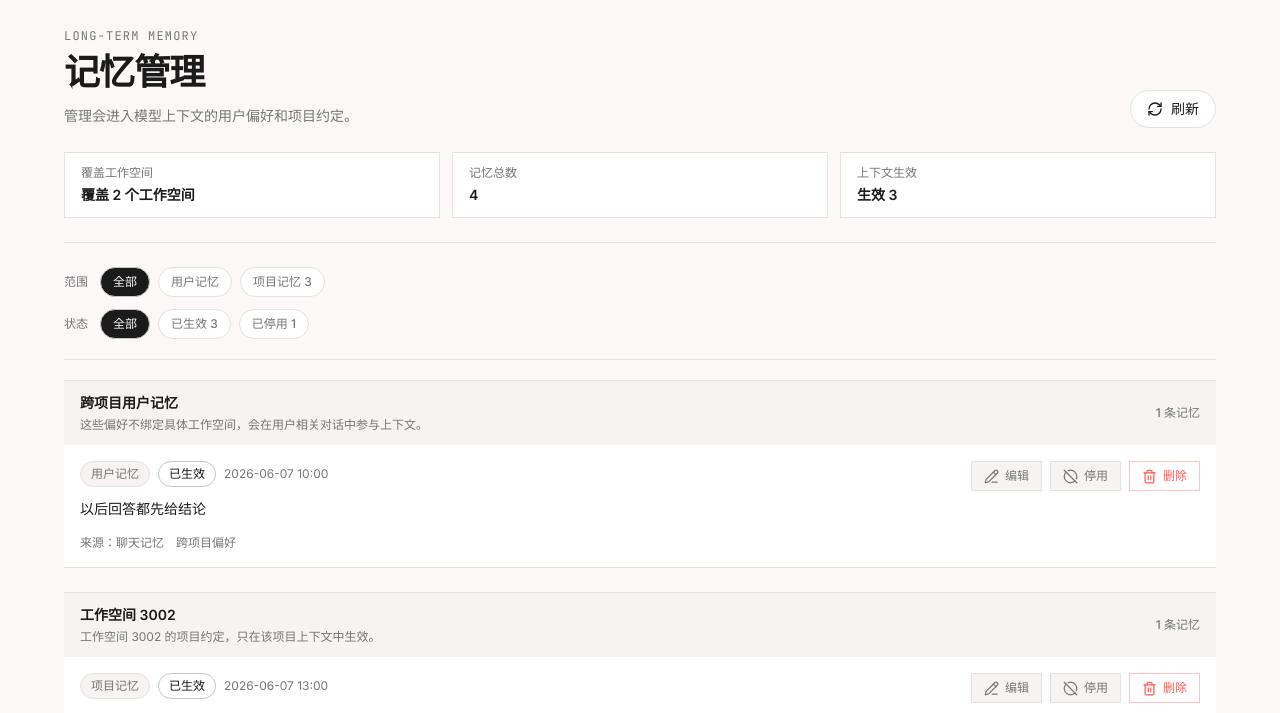
Test: MemoryView › edits memory content with custom dialog
Expected: the text "以后回答都先给结论" is shown, [80,500,206,517]
Click the button with aria-label "编辑记忆 以后回答都先给结论" at (1006, 476), box [971,461,1042,491]
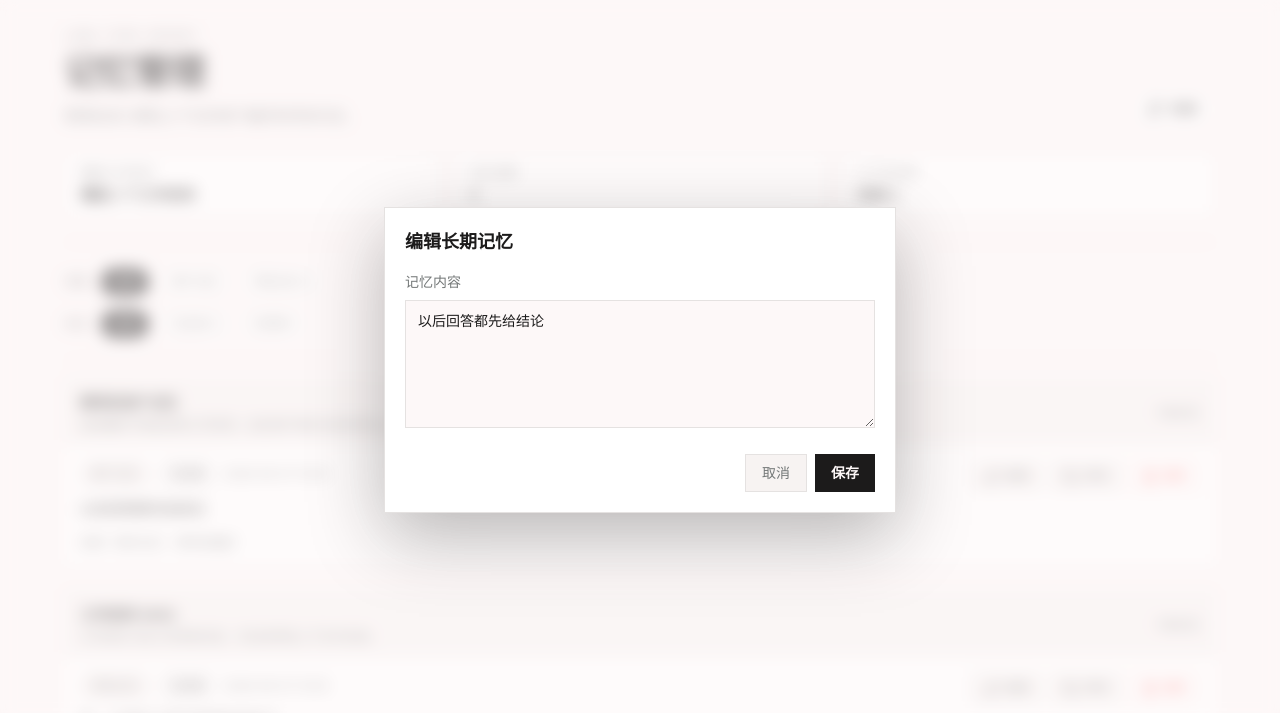
Replace the text in the text box labelled "记忆内容" with "以后回答都先给可执行步骤" at (640, 364), box [405,300,875,428]
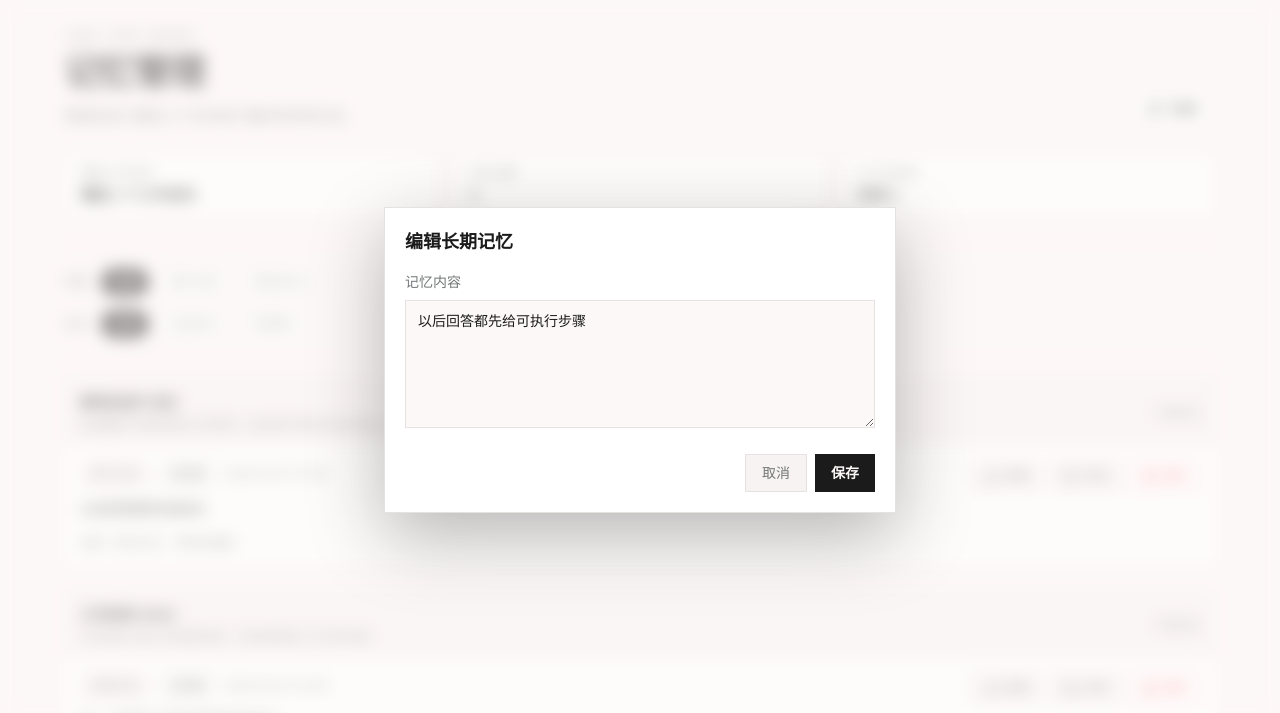
Click the button "保存" at (845, 473), box [815,454,875,492]
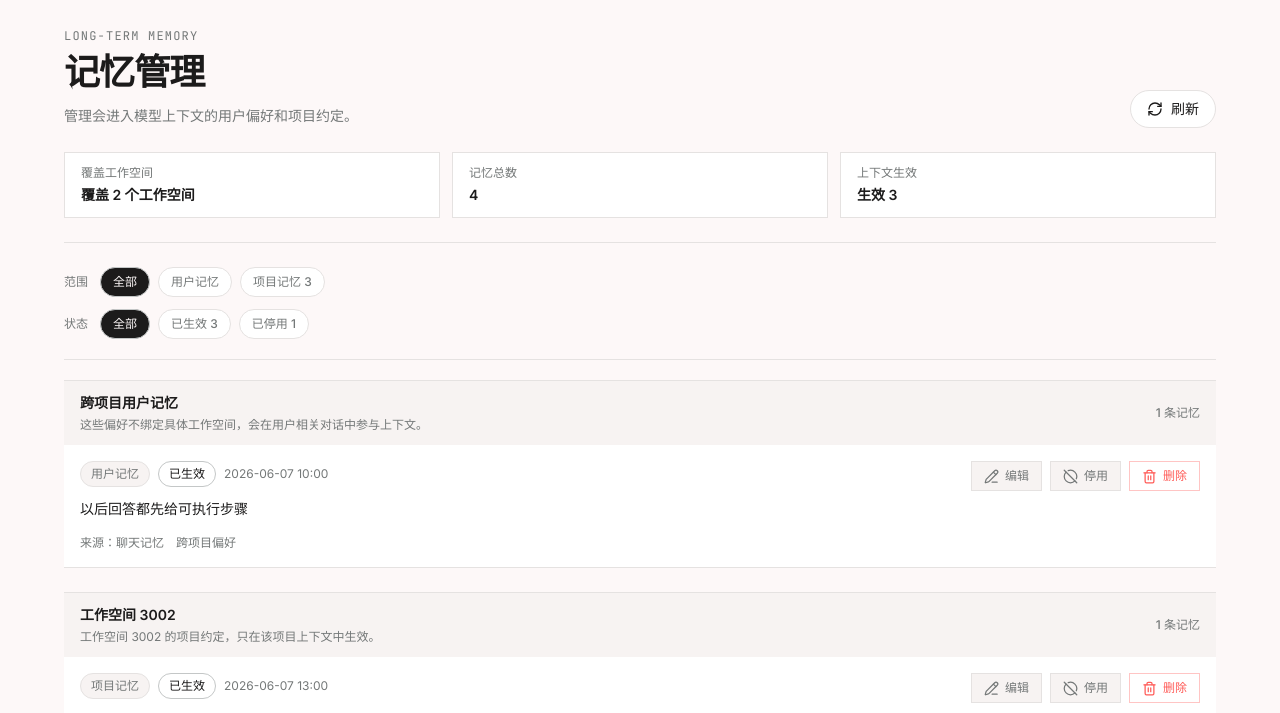
Now the text "以后回答都先给可执行步骤" is shown, box [80,500,248,517]
